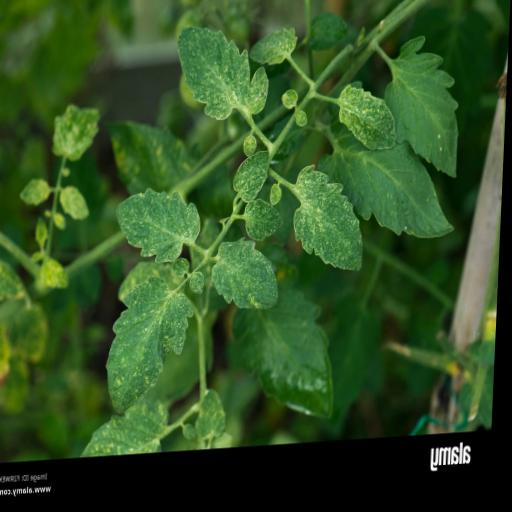Spider Mites: (105, 260, 199, 420), (175, 22, 273, 130), (294, 164, 370, 284), (115, 185, 206, 268), (210, 236, 286, 320), (333, 83, 402, 163), (234, 150, 274, 207), (246, 200, 287, 244)
